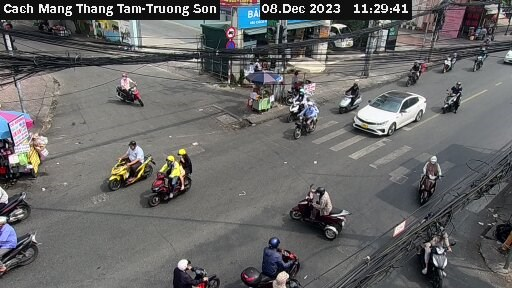car: (348, 88, 430, 136), (501, 40, 512, 68)
motorbike: (285, 185, 354, 239), (137, 165, 219, 209), (247, 237, 316, 280), (412, 233, 465, 284), (114, 75, 158, 116), (437, 80, 482, 119), (104, 158, 163, 187), (8, 226, 48, 266), (411, 166, 452, 203), (178, 254, 219, 288), (1, 181, 34, 218), (399, 58, 430, 91), (333, 83, 363, 115), (433, 47, 463, 75), (292, 113, 317, 142), (286, 94, 313, 119), (466, 47, 490, 68)
